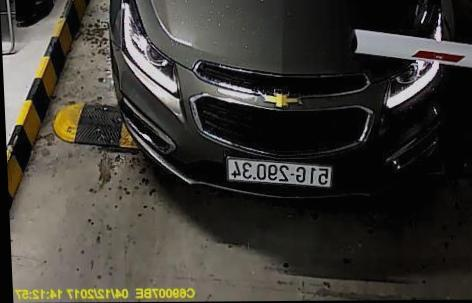License_Plate: (224, 159, 332, 190)
